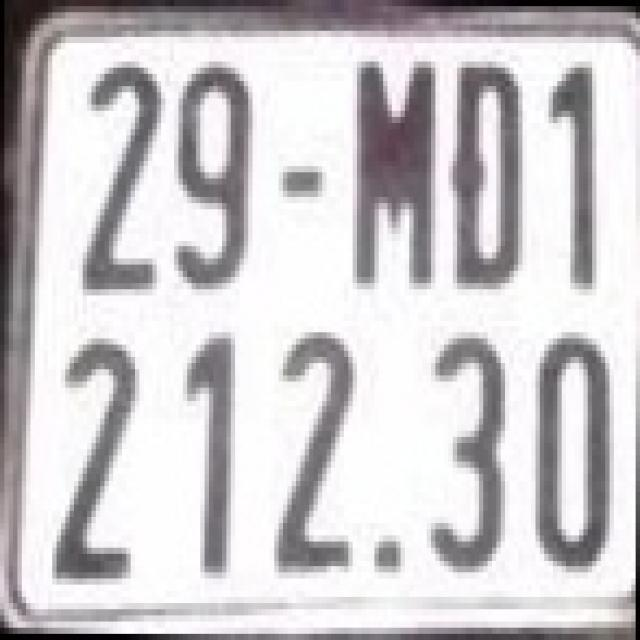0: (531, 332, 614, 566)
1: (178, 326, 244, 572), (548, 62, 600, 290)
2: (52, 332, 140, 585), (270, 320, 357, 572), (78, 62, 161, 296)
3: (426, 332, 509, 572)
9: (170, 56, 252, 290)
D: (448, 68, 536, 284)
M: (348, 56, 440, 290)
